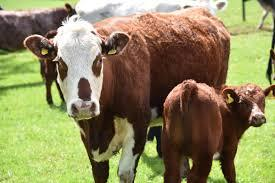cow: (24, 7, 230, 183), (165, 79, 275, 183), (0, 2, 83, 52), (74, 0, 227, 19)
